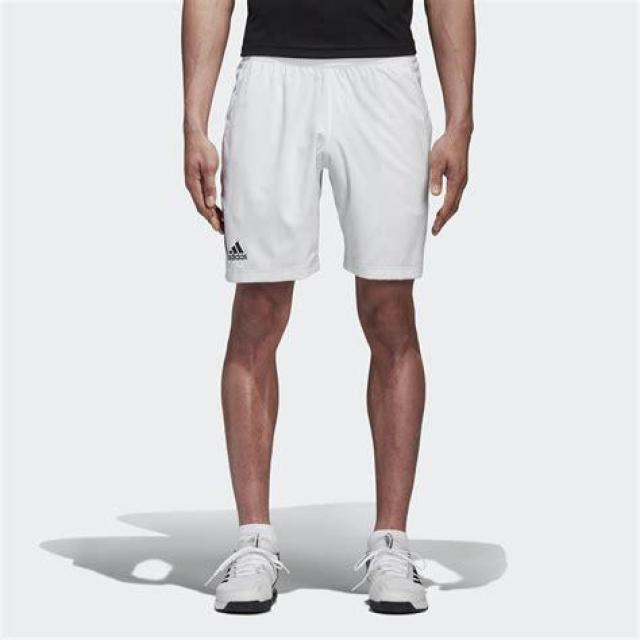short: (225, 56, 431, 283)
